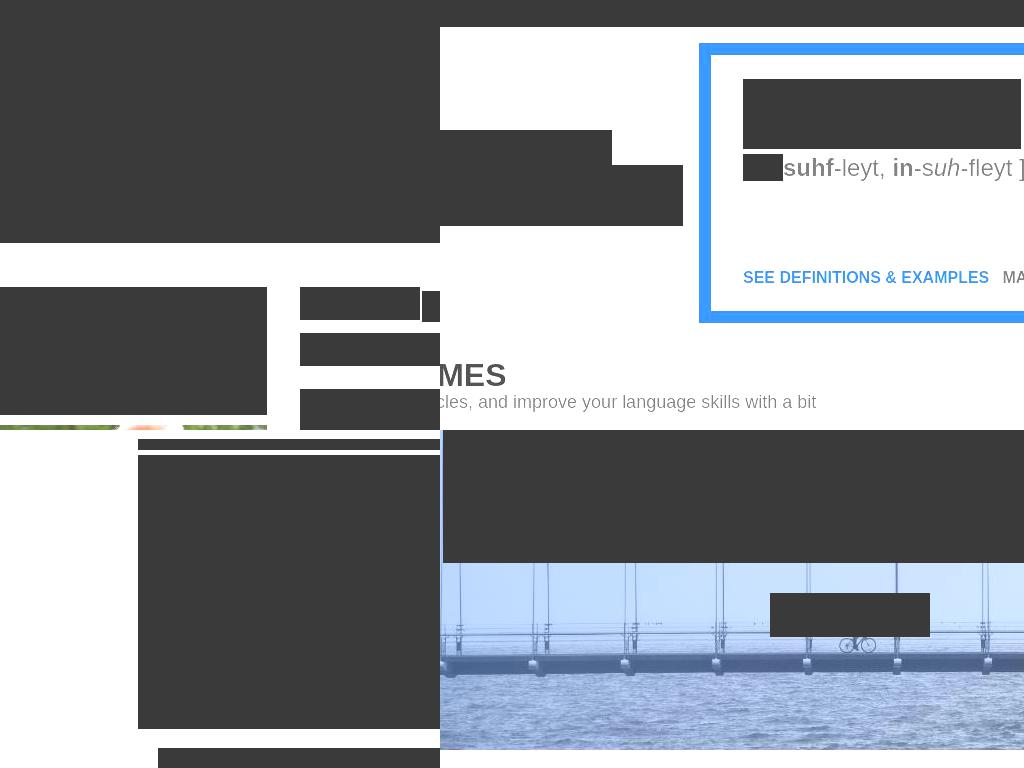button: (770, 593, 930, 637), (743, 269, 1003, 287)
field: (300, 333, 440, 366)
heading: (0, 287, 267, 415), (440, 363, 831, 388), (474, 130, 612, 167), (440, 130, 475, 167)
iframe: (0, 0, 440, 243), (138, 455, 440, 729), (440, 0, 1024, 27)
image: (422, 291, 440, 322)
text: (443, 430, 1024, 563), (743, 79, 1021, 149), (440, 392, 831, 430), (440, 165, 683, 226), (300, 287, 420, 320), (138, 439, 440, 450), (743, 269, 885, 286), (1002, 183, 1024, 287), (885, 269, 990, 286), (960, 154, 1024, 181), (833, 154, 892, 181), (783, 154, 835, 181), (743, 154, 783, 181), (933, 154, 960, 181), (892, 154, 915, 181), (913, 154, 934, 181)
